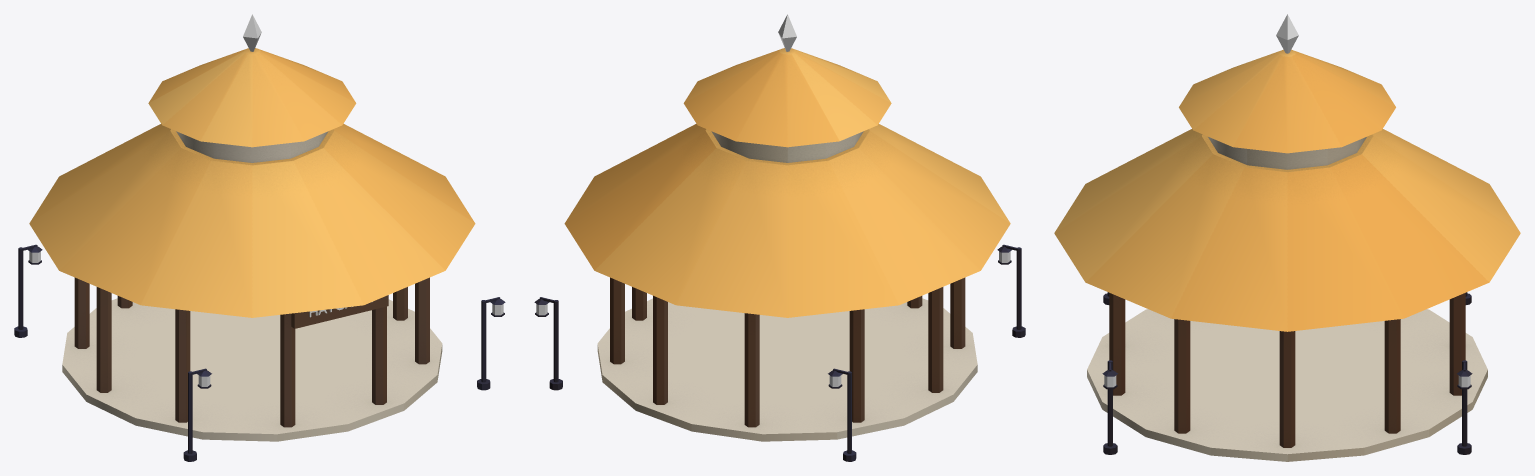
The model's file is home_hatchery_3.fbx.
The picture shows the model from 3 angles, left to right: view 1: azimuth 30°, elevation 25°; view 2: azimuth 150°, elevation 25°; view 3: azimuth 270°, elevation 25°; orthographic projection. The views are drawn at different scales.
Parts seen in each view (by area): view 1: home_hatchery_3_body; view 2: home_hatchery_3_body; view 3: home_hatchery_3_body, home_hatchery_3_body2_glow.
Part boxes in pixels (x1=…): home_hatchery_3_body: x1=14, y1=48, x2=505, y2=461; home_hatchery_3_body: x1=534, y1=48, x2=1025, y2=461; home_hatchery_3_body: x1=1054, y1=49, x2=1520, y2=461; home_hatchery_3_body2_glow: x1=1276, y1=14, x2=1298, y2=53.
Bounding box in the file's own units: 3260 × 2800 × 3260.
2 materials, 1 textured.
